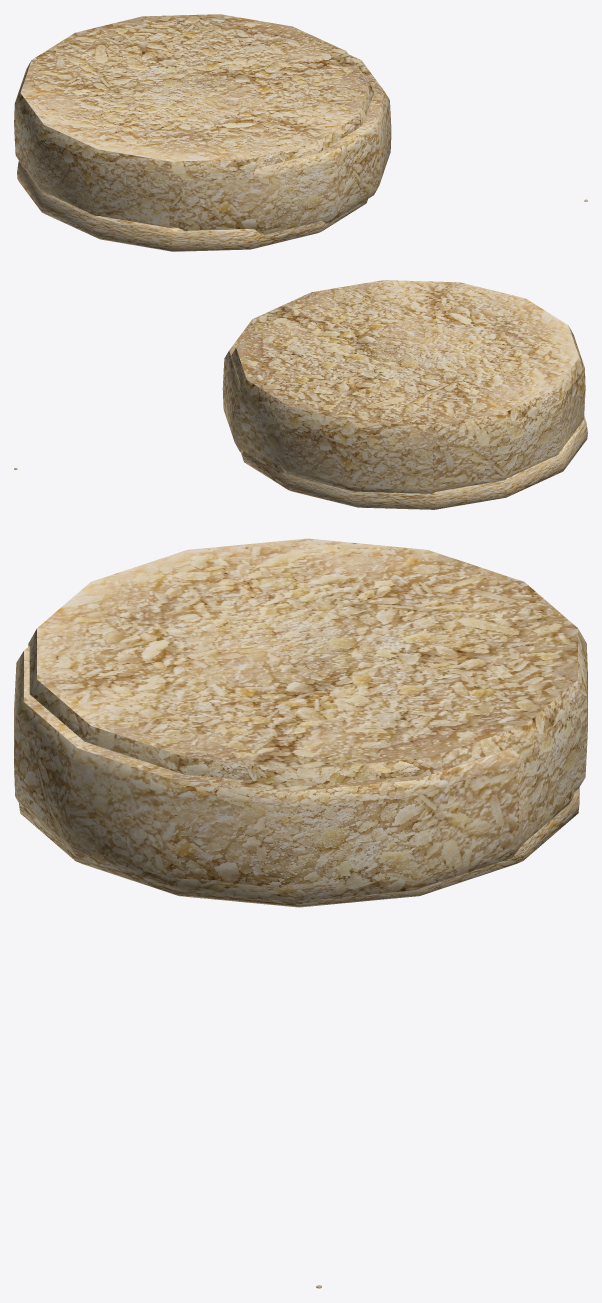
Rendered from CrispyChicken.fbx.
The picture shows the model from 3 angles, top to bottom: view 1: azimuth 30°, elevation 25°; view 2: azimuth 150°, elevation 25°; view 3: azimuth 270°, elevation 25°; orthographic projection. The views are drawn at different scales.
Visible parts, largest first — view 1: CrispyChicken2, CrispyChicken1, CrispyChicken0; view 2: CrispyChicken2, CrispyChicken0, CrispyChicken1; view 3: CrispyChicken2, CrispyChicken1, CrispyChicken0.
Boxes of the visible parts, x1,y1,x2,y2 form: CrispyChicken2: (14,14,374,227); CrispyChicken1: (176,54,391,234); CrispyChicken0: (17,161,367,251); CrispyChicken2: (231,280,585,493); CrispyChicken0: (241,416,587,509); CrispyChicken1: (222,296,302,474); CrispyChicken2: (28,538,587,826); CrispyChicken1: (14,646,573,901); CrispyChicken0: (19,787,579,907).
Size of the model in its own units: 398 by 146 by 228.
